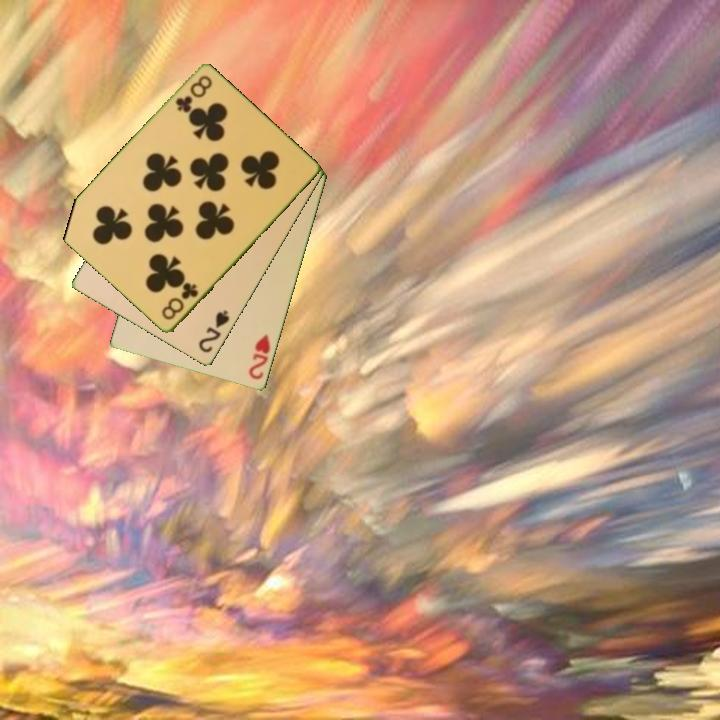2h: (245, 331, 273, 383)
2s: (195, 307, 233, 356)
8c: (158, 279, 201, 323), (172, 72, 215, 116)
